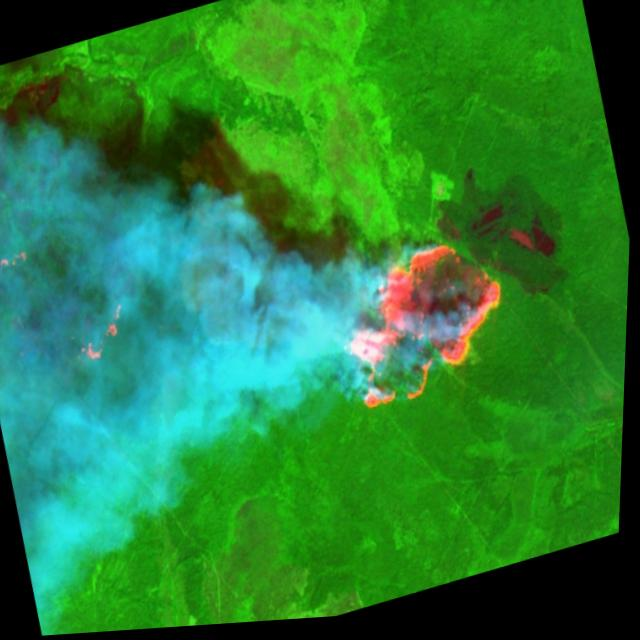fire: (315, 221, 533, 434), (68, 288, 148, 375), (0, 238, 38, 280)
